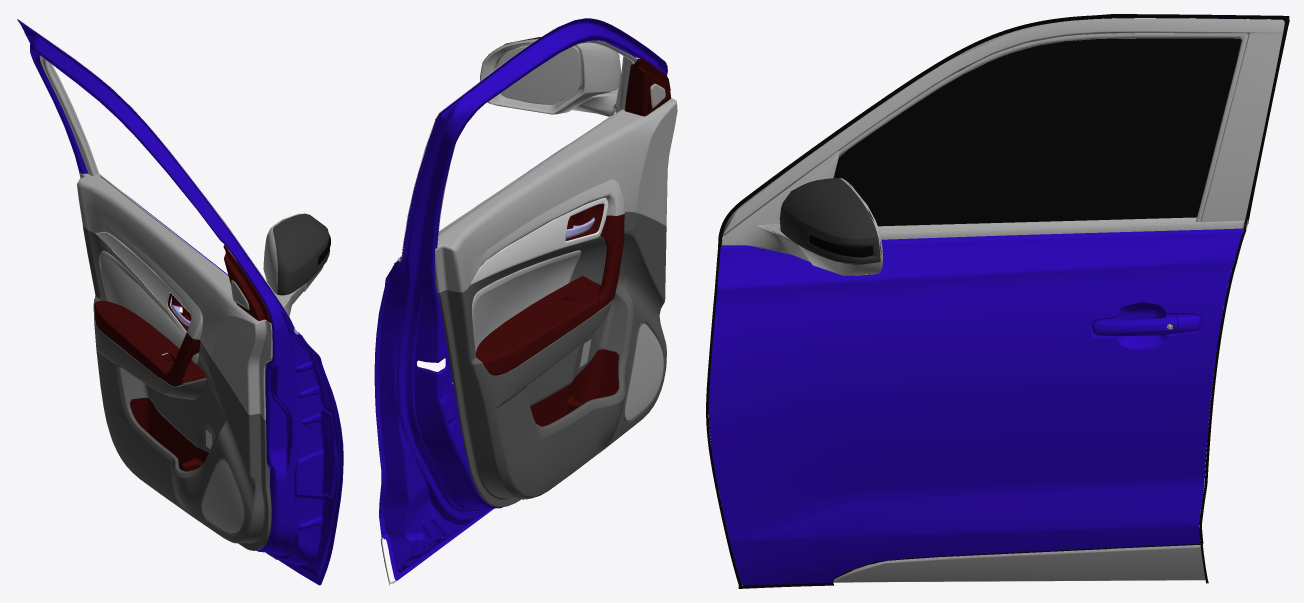
File: TOYOTA_URBAN_CRUISER_PRE_EX_FL_DOORS_MESH.glb
3 views of the same model, side by side, from view 1: azimuth 30°, elevation 25°; view 2: azimuth 150°, elevation 25°; view 3: azimuth 270°, elevation 25° (orthographic). The views are drawn at different scales.
Parts seen in each view (by area): view 1: TOYOTA_URBAN_CRUISER_PRE_EX_FL_DOORS_MESH; view 2: TOYOTA_URBAN_CRUISER_PRE_EX_FL_DOORS_MESH; view 3: TOYOTA_URBAN_CRUISER_PRE_EX_FL_DOORS_MESH.
Boxes of the visible parts, bbox=[...] form: TOYOTA_URBAN_CRUISER_PRE_EX_FL_DOORS_MESH: bbox=[17, 19, 343, 585]; TOYOTA_URBAN_CRUISER_PRE_EX_FL_DOORS_MESH: bbox=[374, 18, 677, 585]; TOYOTA_URBAN_CRUISER_PRE_EX_FL_DOORS_MESH: bbox=[706, 14, 1289, 588].
Bounding box in the file's own units: 0.4215 × 1.18 × 1.19.
